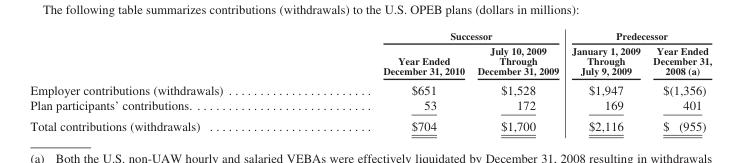table: (29, 29, 711, 132)
table column: (29, 29, 302, 132), (302, 29, 470, 132), (470, 29, 564, 132), (564, 29, 646, 132), (646, 29, 711, 132)
table column header: (29, 29, 711, 79)
table row: (29, 42, 711, 79), (29, 79, 711, 97), (29, 97, 711, 115), (29, 115, 711, 132), (29, 29, 711, 42)
table spanning cell: (302, 29, 564, 42), (564, 29, 711, 42)
